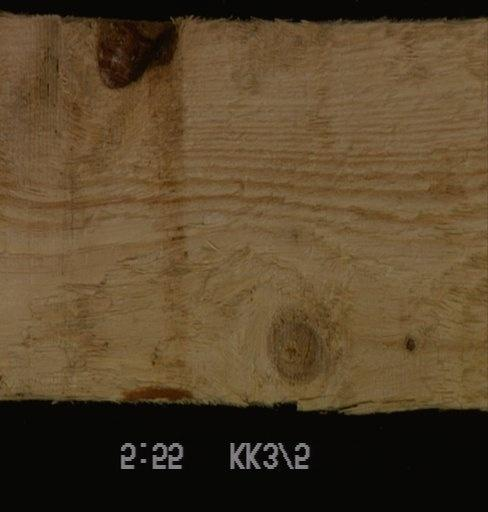small_knot: (400, 333, 420, 355)
sound_knot: (263, 293, 350, 392)
